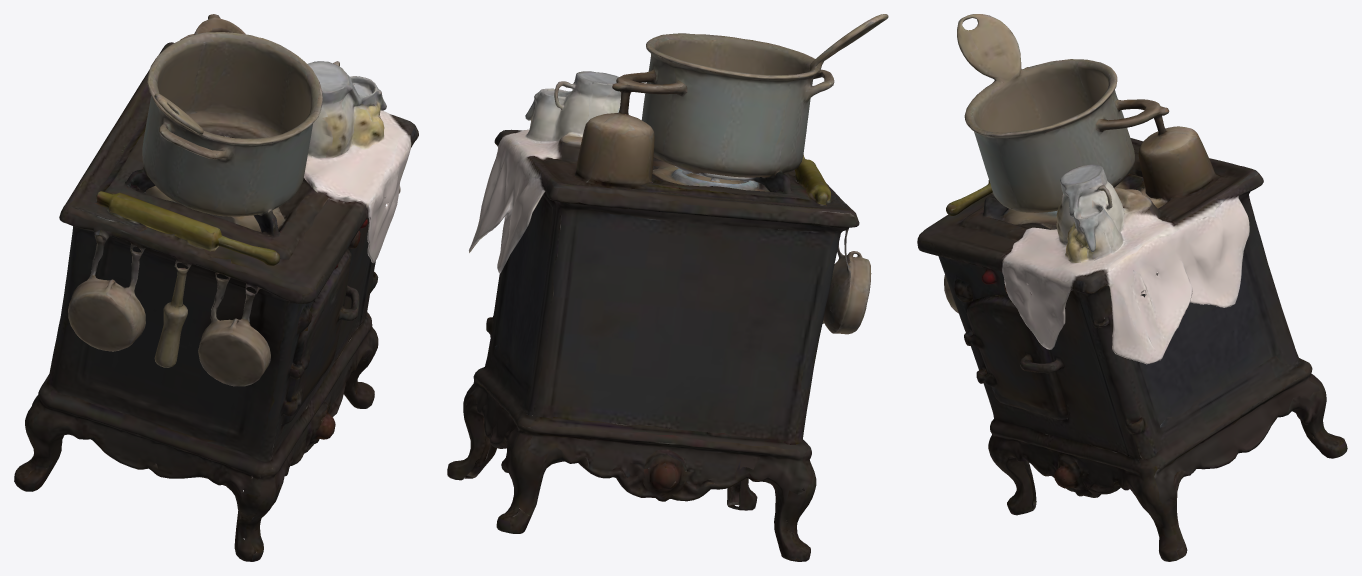
Rendered from prop_agatha.glb.
The picture shows the model from 3 angles, left to right: view 1: azimuth 30°, elevation 25°; view 2: azimuth 150°, elevation 25°; view 3: azimuth 270°, elevation 25°; orthographic projection. The views are drawn at different scales.
Bounding box in the file's own units: 0.6427 × 0.8568 × 0.742.
1 material, 1 textured.
